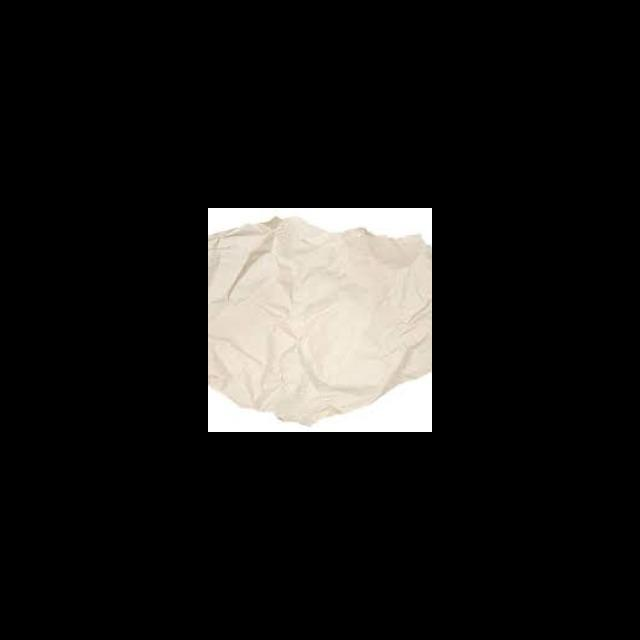paper: (208, 211, 432, 423)
